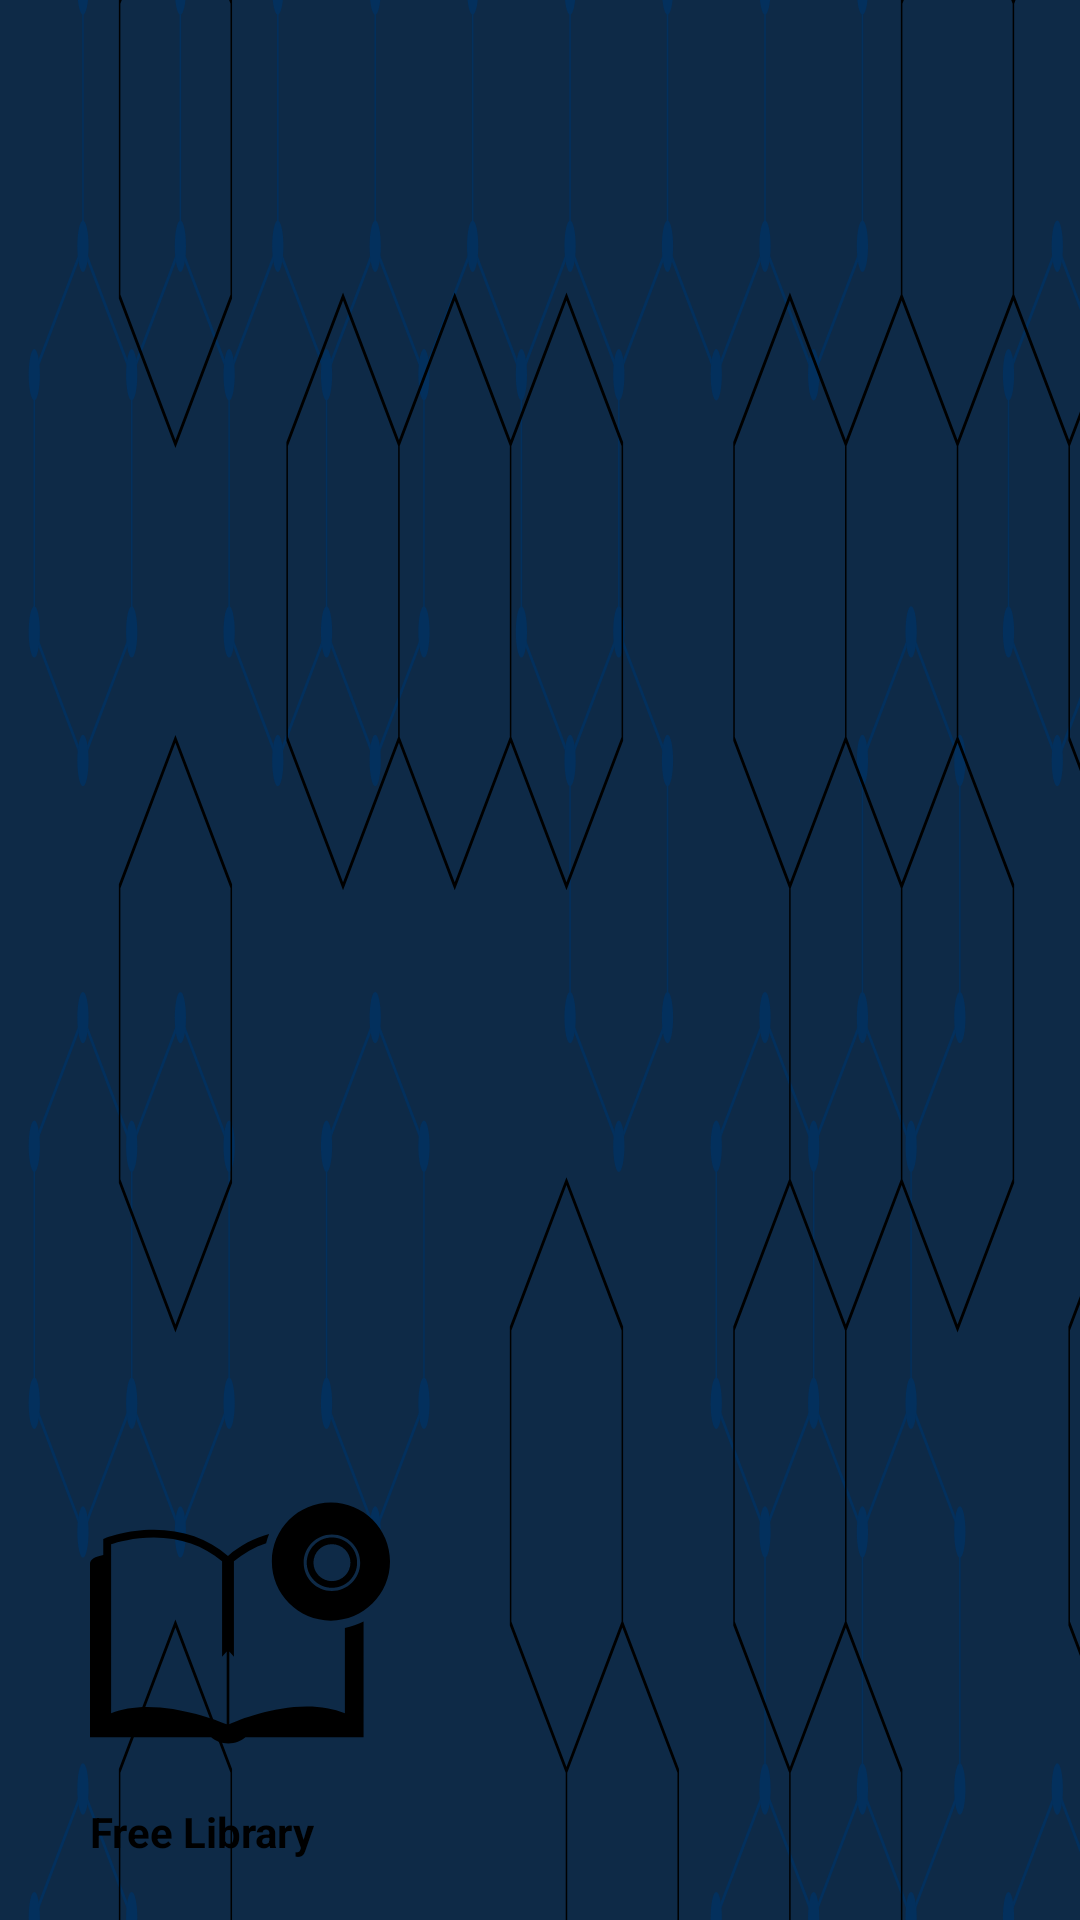

Point at icon controls on the screen. Image size 1080w x 1920h, points as point (x, y).
book and cd: point (240, 1637)
